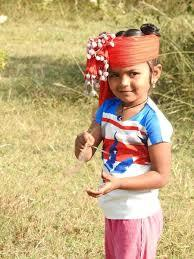Human: (74, 19, 171, 259)
